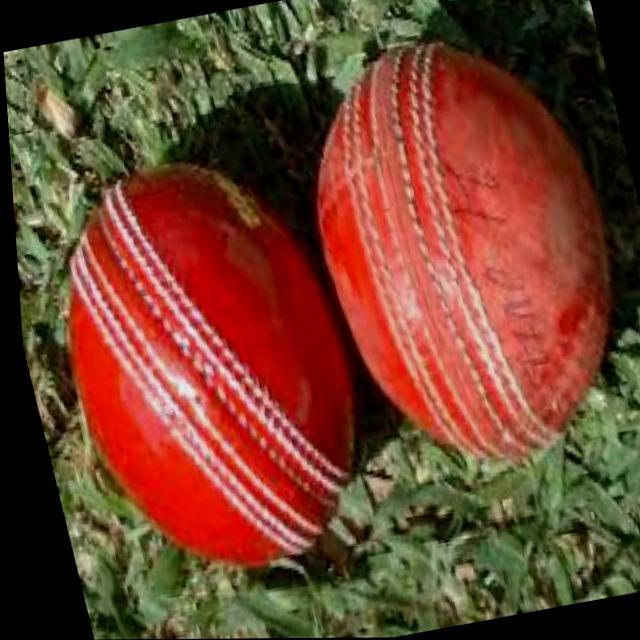-: (9, 119, 408, 596), (283, 34, 640, 468)
